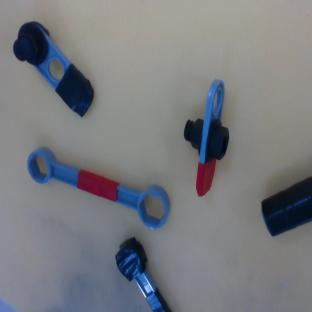part_1_bad: (3, 15, 107, 122)
part_1_good: (179, 79, 234, 197)
part_3_bad: (109, 235, 173, 312)
part_3_good: (20, 143, 176, 231)
